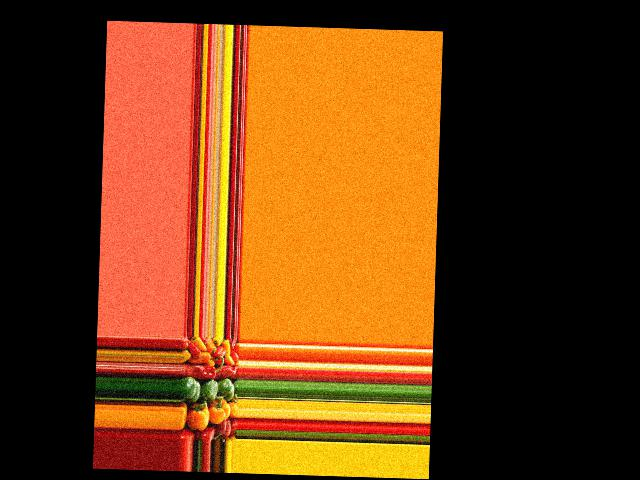bell_pepper: (185, 339, 201, 358)
